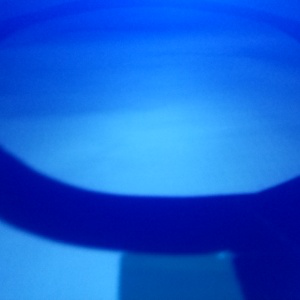bottom_left: (121, 199, 300, 300)
